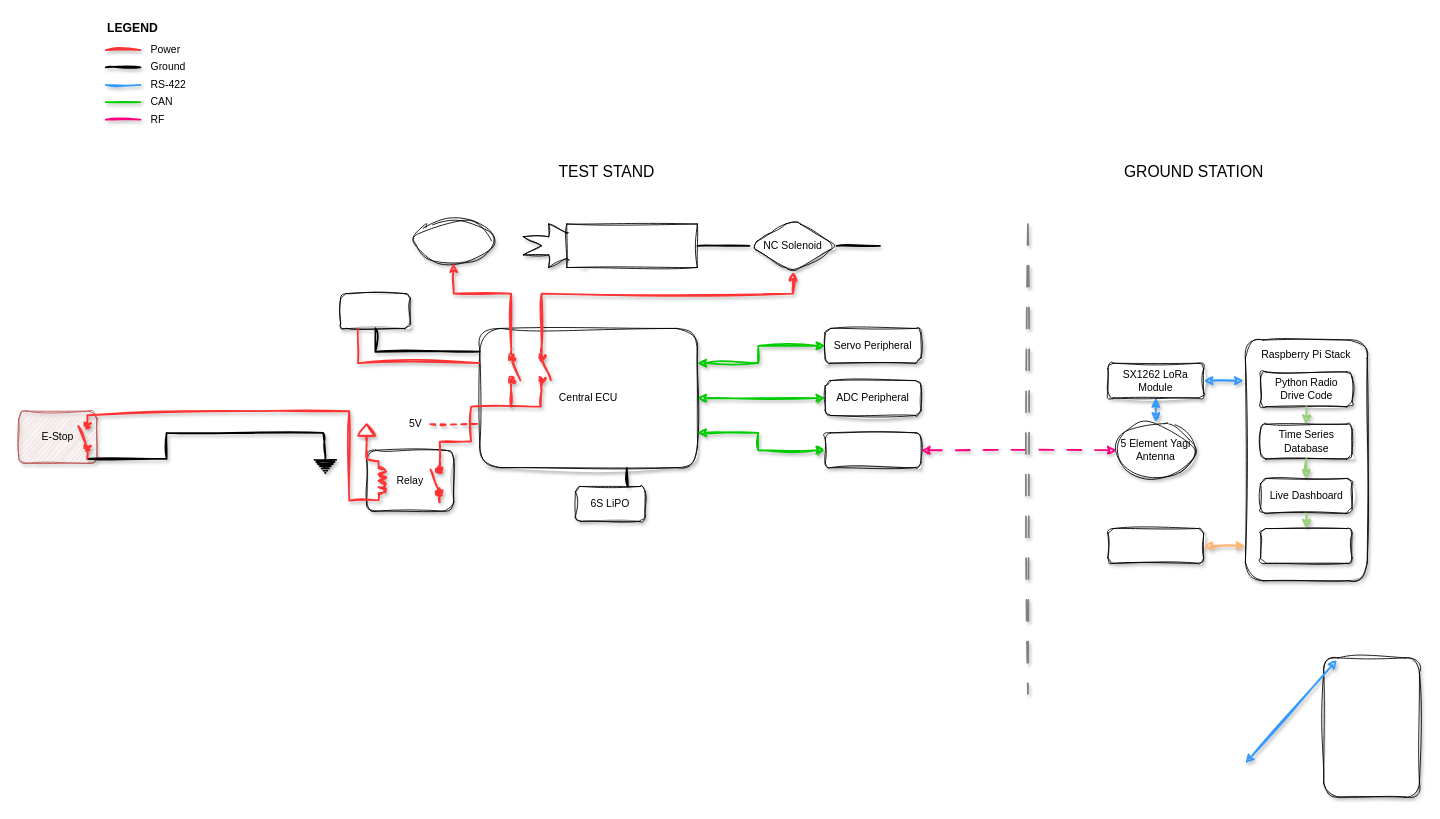
Image size: 1440x819. Some labels were removed from this diagram. Here are the shapes that lost their labels. From the top down, the centre of each, then its label:
(454,242): Ignitors
(375,312): 2S LiPO
(873,451): Radio Peripheral
(1156,546): Operator Laptop
(1306,546): WiFi Hotspot
(1372,728): RIU
